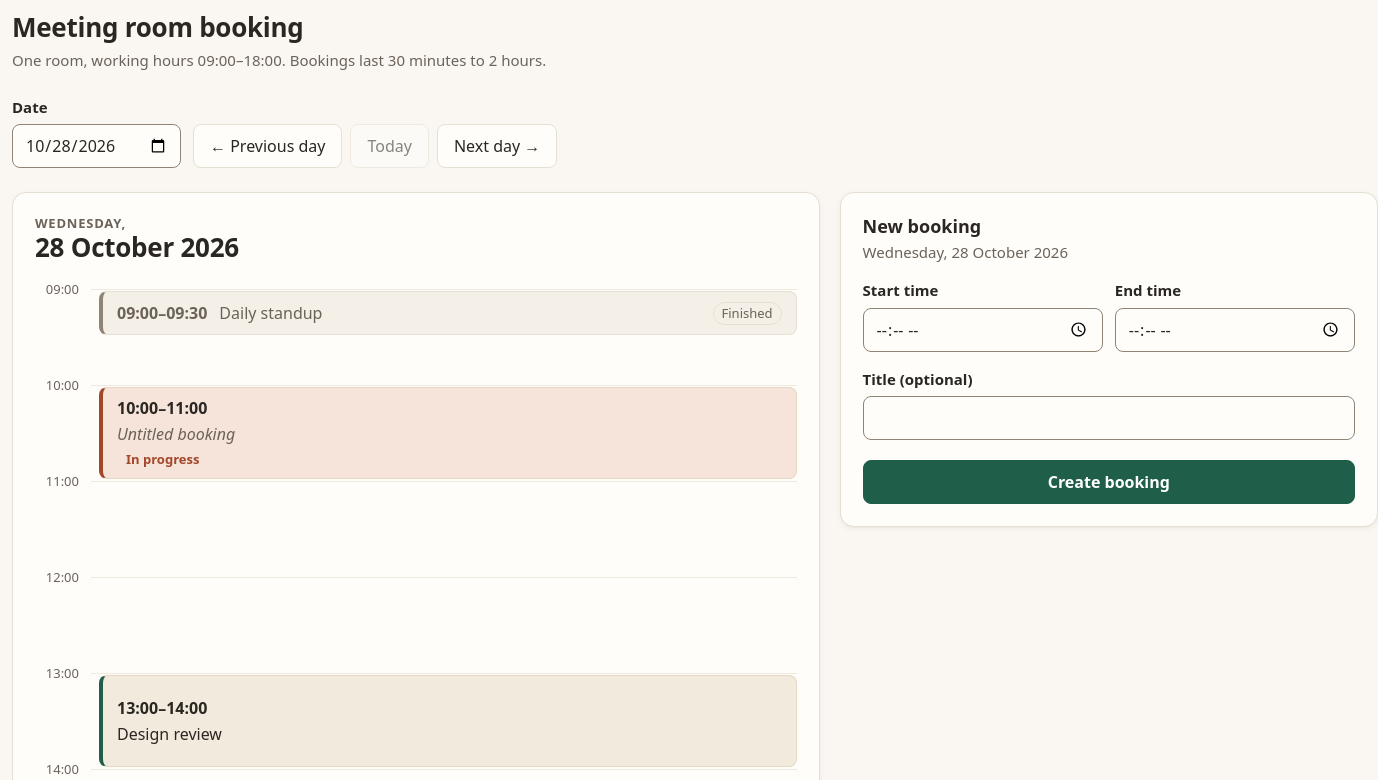
BookingsPage — changing the date › returns to today
Click the button "Next day →": (497,146) x1=437 y1=124 x2=557 y2=168
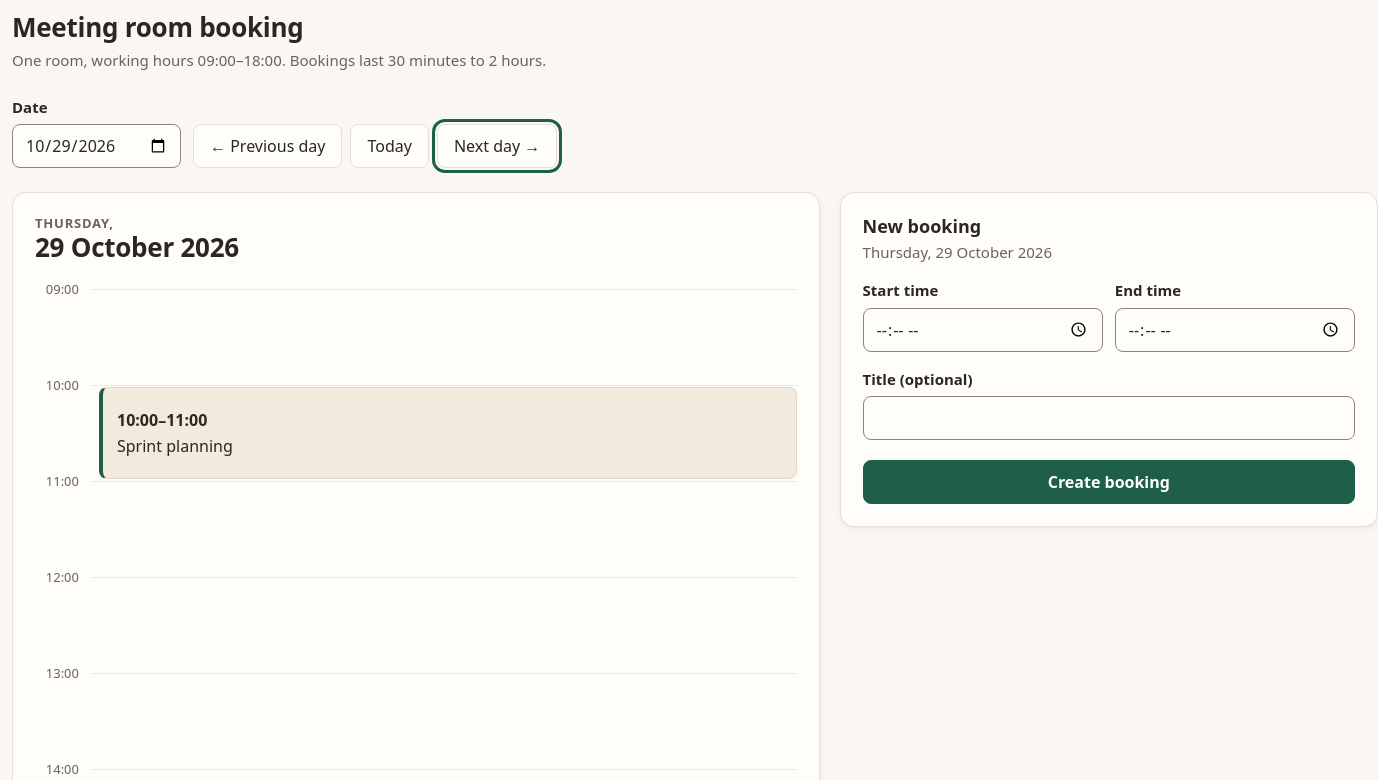
Click the button "Next day →": (497,146) x1=437 y1=124 x2=557 y2=168
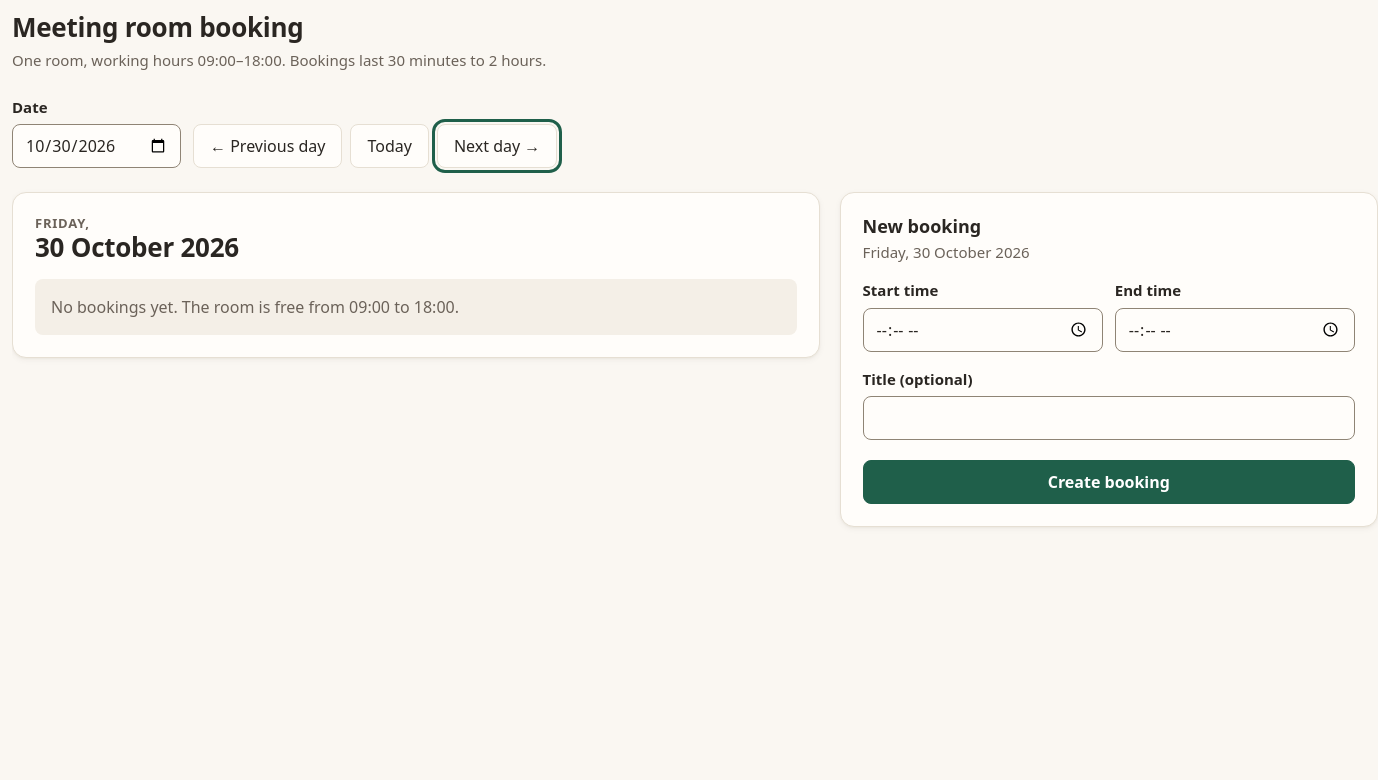
Click the button "Today": (390,146) x1=350 y1=124 x2=429 y2=168
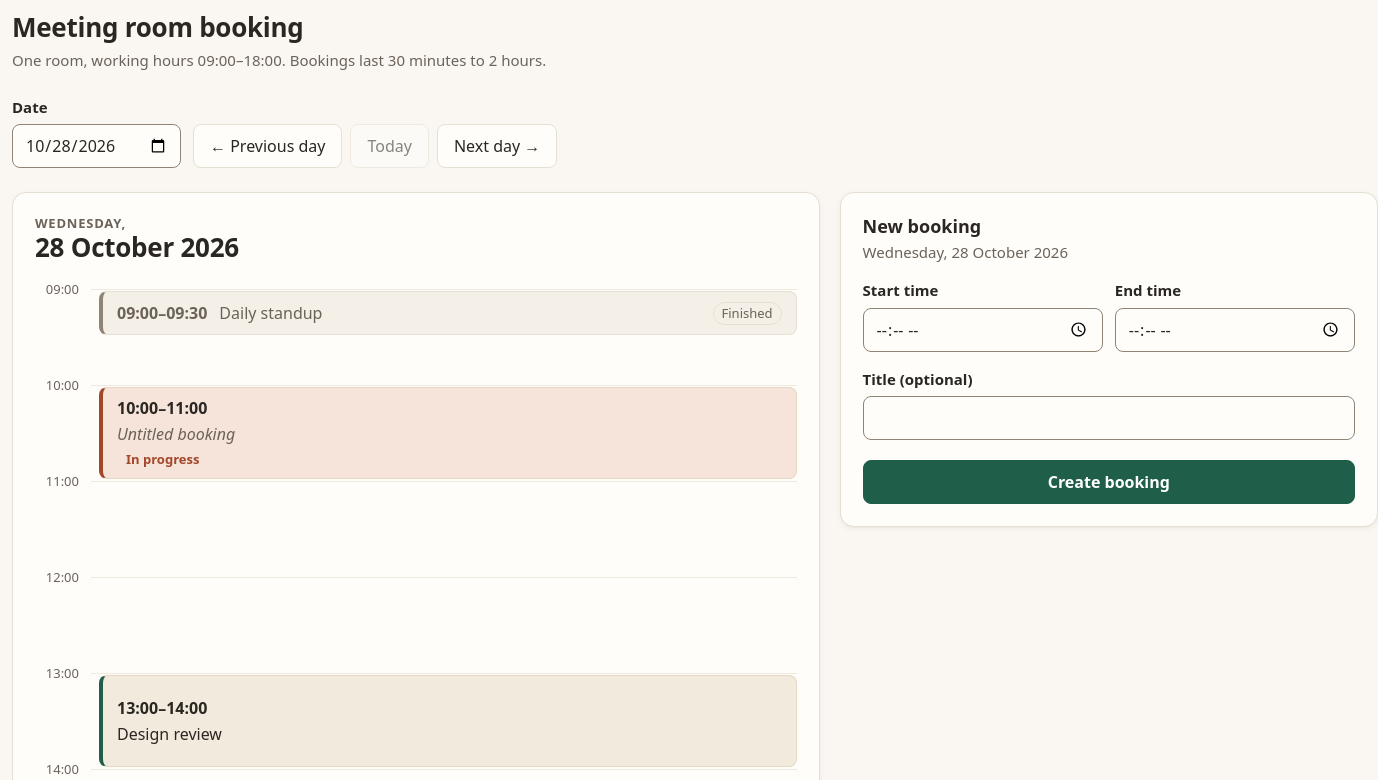
Check: the date field labelled "Date" holds "2026-10-28", box x1=12 y1=124 x2=181 y2=168
